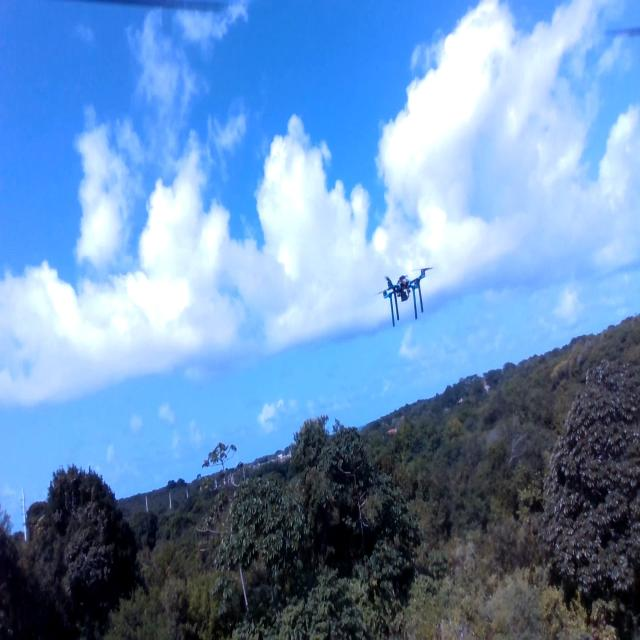-uav-: (364, 253, 452, 335)
